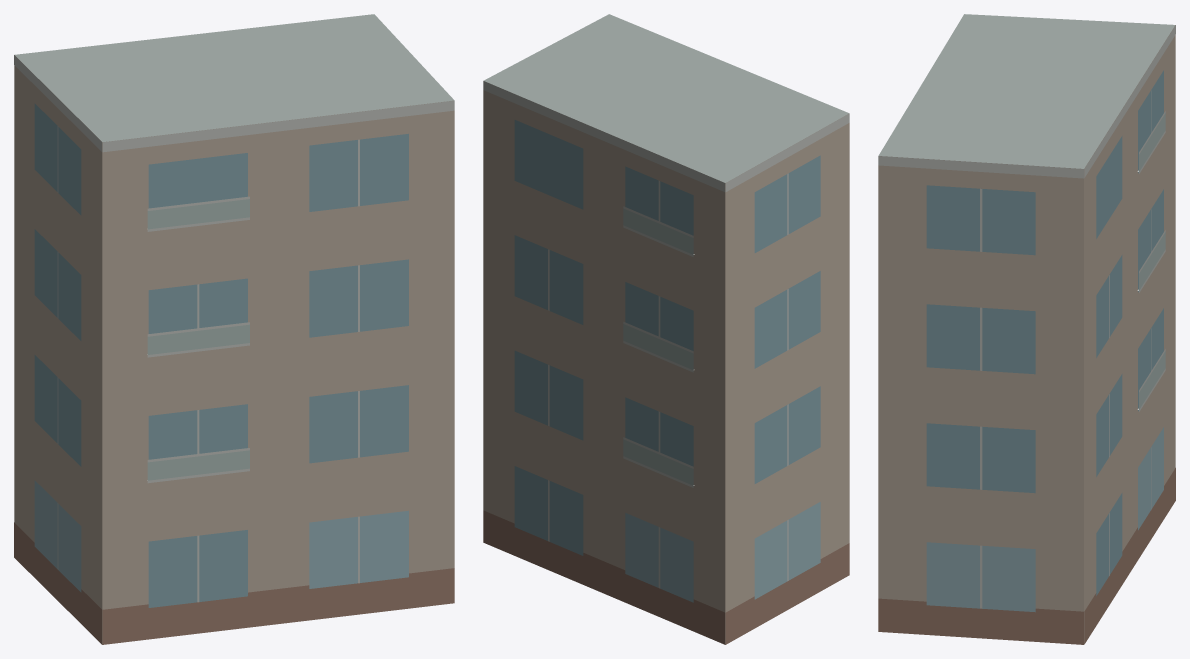
The model's file is survey-upis-32936869.glb.
3 views of the same model, side by side, from view 1: azimuth 30°, elevation 25°; view 2: azimuth 150°, elevation 25°; view 3: azimuth 270°, elevation 25° (orthographic). The views are drawn at different scales.
Visible parts, largest first — view 1: survey-upis-32936869.tmp; view 2: survey-upis-32936869.tmp; view 3: survey-upis-32936869.tmp.
Boxes of the visible parts, x1,y1,x2,y2 form: survey-upis-32936869.tmp: (14,14,454,644); survey-upis-32936869.tmp: (483,14,849,644); survey-upis-32936869.tmp: (878,14,1175,644).
Size of the model in its own units: 8.46 by 12.1 by 6.86.
